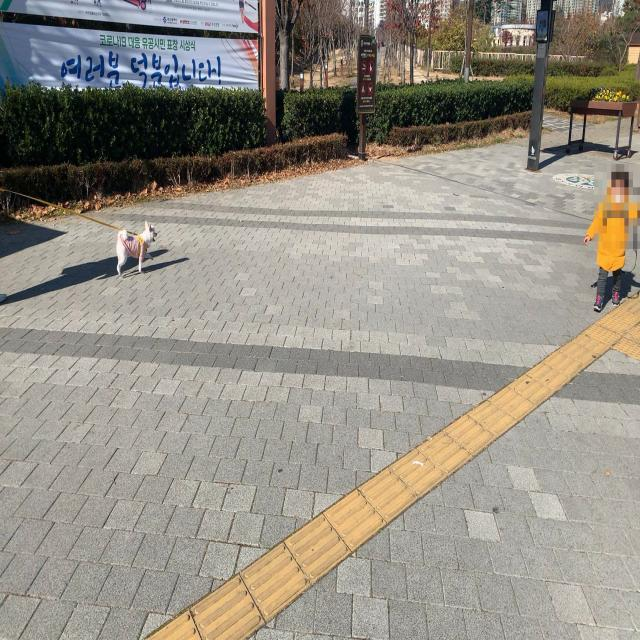Dog: (116, 221, 158, 279)
